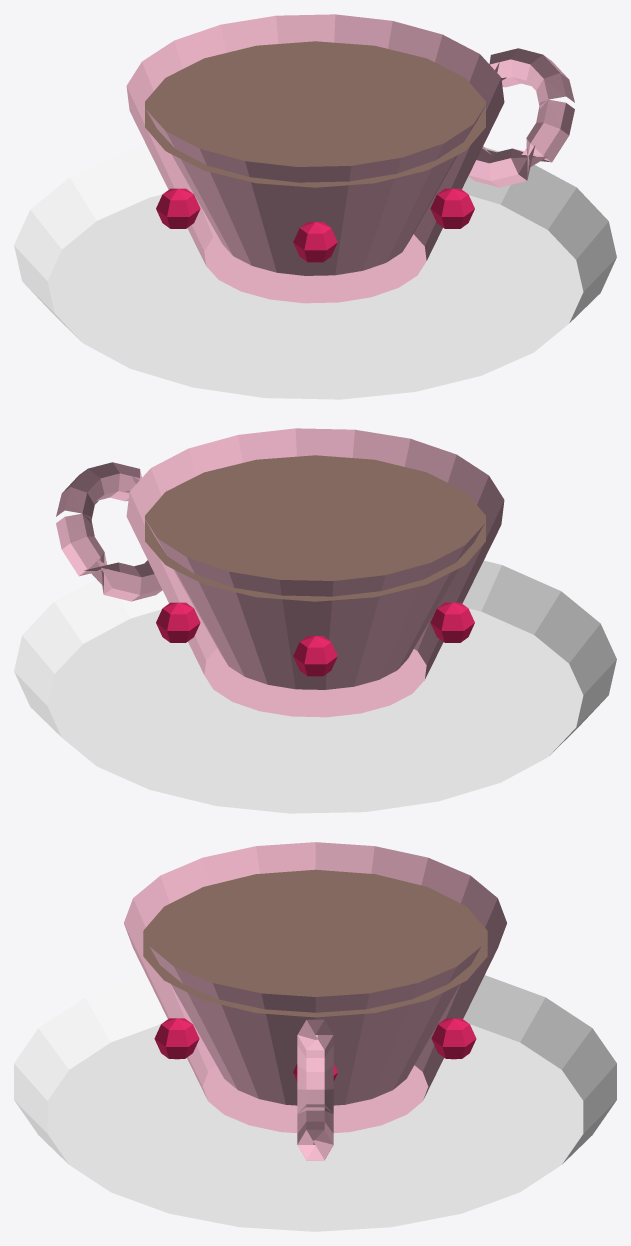
The model's file is tekopp.glb.
The picture shows the model from 3 angles, top to bottom: view 1: azimuth 30°, elevation 25°; view 2: azimuth 150°, elevation 25°; view 3: azimuth 270°, elevation 25°; orthographic projection.
Visible parts, largest first — view 1: tekopp; view 2: tekopp; view 3: tekopp.
Boxes of the visible parts, x1,y1,x2,y2 form: tekopp: (14, 14, 616, 399); tekopp: (14, 428, 616, 813); tekopp: (14, 842, 616, 1231).
Bounding box in the file's own units: 0.54 × 0.19 × 0.5345.
